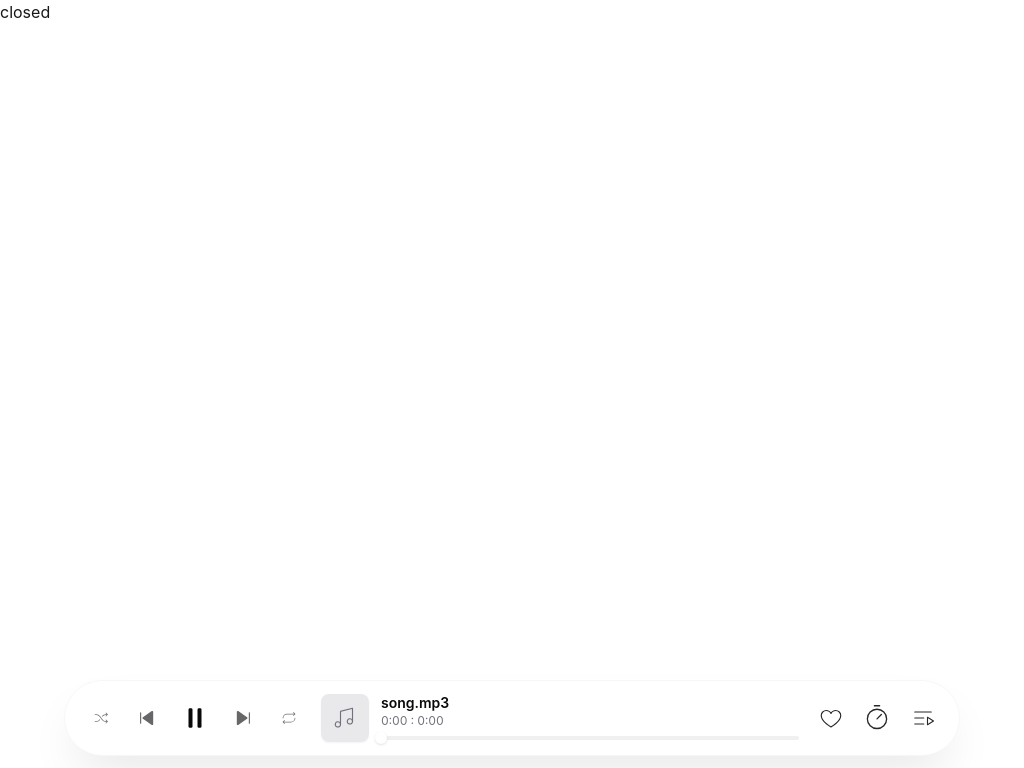
it: MiniPlayer › opens queue from the mini queue button
What coordinates should you click on to do the following:
click the button with test id "mini-queue-button"
I would click on:
 (923, 718)
Its box is [903,698,943,738].
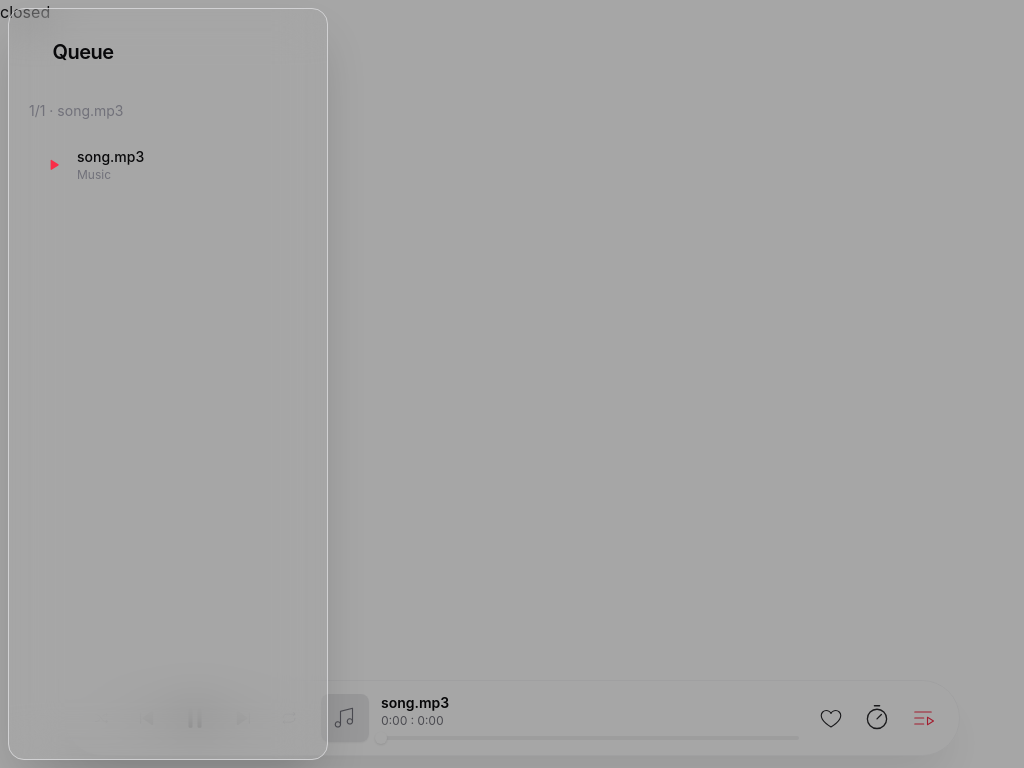
expect the element with test id "queue-drawer" is shown: met
